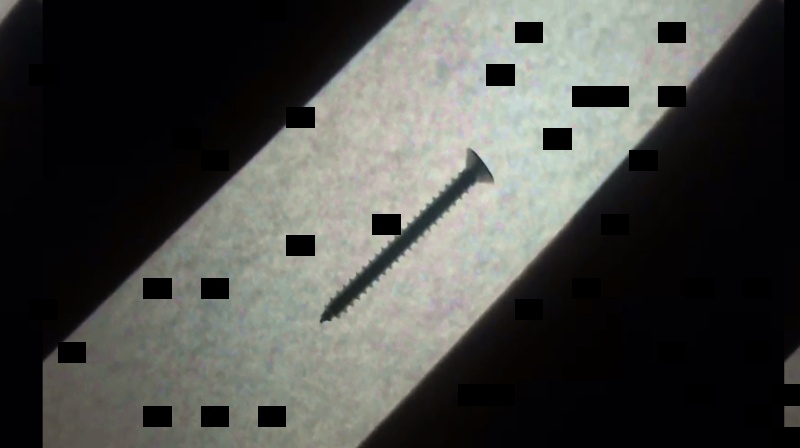S002: (317, 145, 499, 327)
